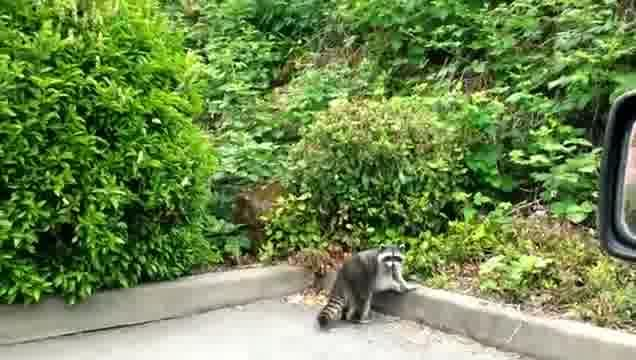raccoon: (317, 244, 418, 330)
